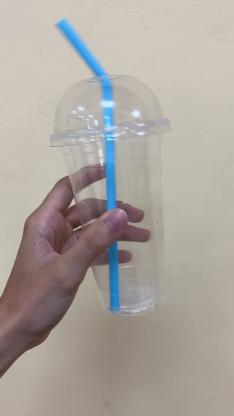Plastic Cup: (47, 72, 173, 314)
